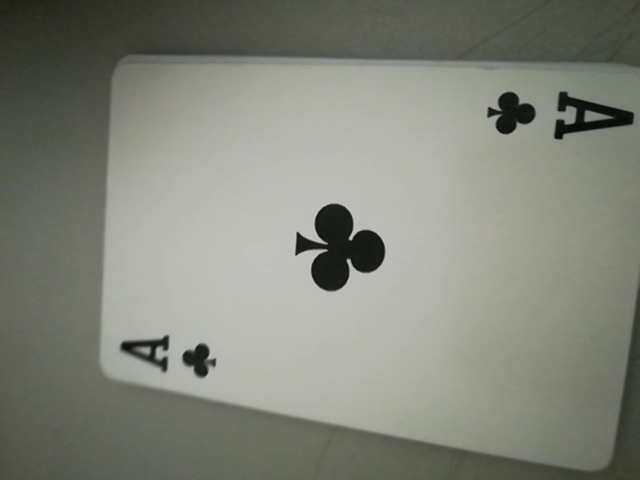mh a: (478, 79, 638, 155), (114, 322, 231, 386)
